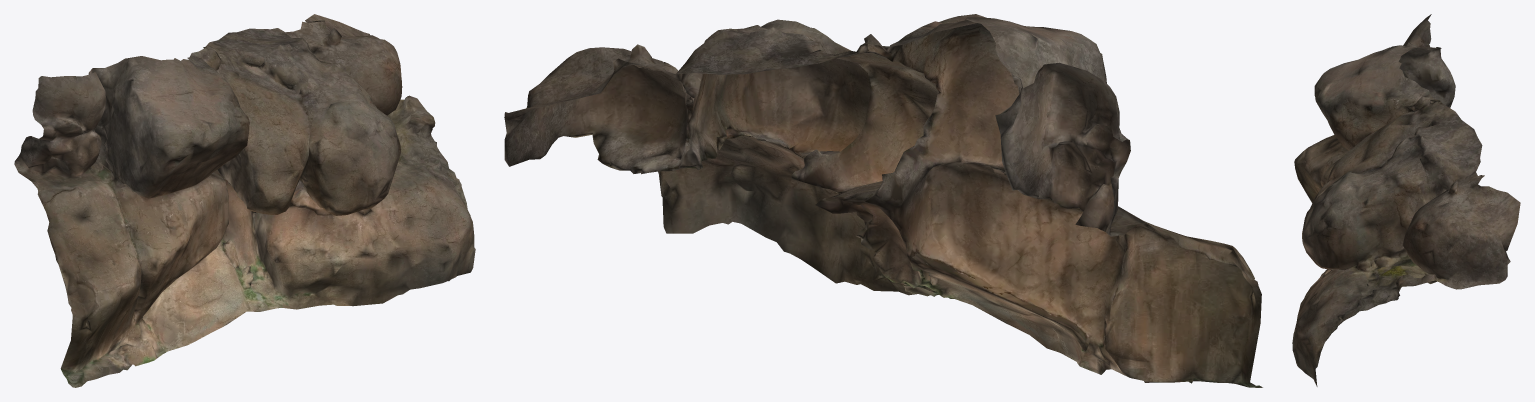
File: cliff.glb
3 renders of one model, left to right at view 1: azimuth 30°, elevation 25°; view 2: azimuth 150°, elevation 25°; view 3: azimuth 270°, elevation 25°, orthographic. The views are drawn at different scales.
Visible parts, largest first — view 1: drone_rock_01; view 2: drone_rock_01; view 3: drone_rock_01.
Part boxes in pixels (x1=…): drone_rock_01: x1=14, y1=14, x2=475, y2=387; drone_rock_01: x1=504, y1=14, x2=1262, y2=387; drone_rock_01: x1=1292, y1=14, x2=1520, y2=386.
Size of the model in its own units: 8.27 by 4.96 by 4.38.
Materials: 1 (1 with a texture image).
